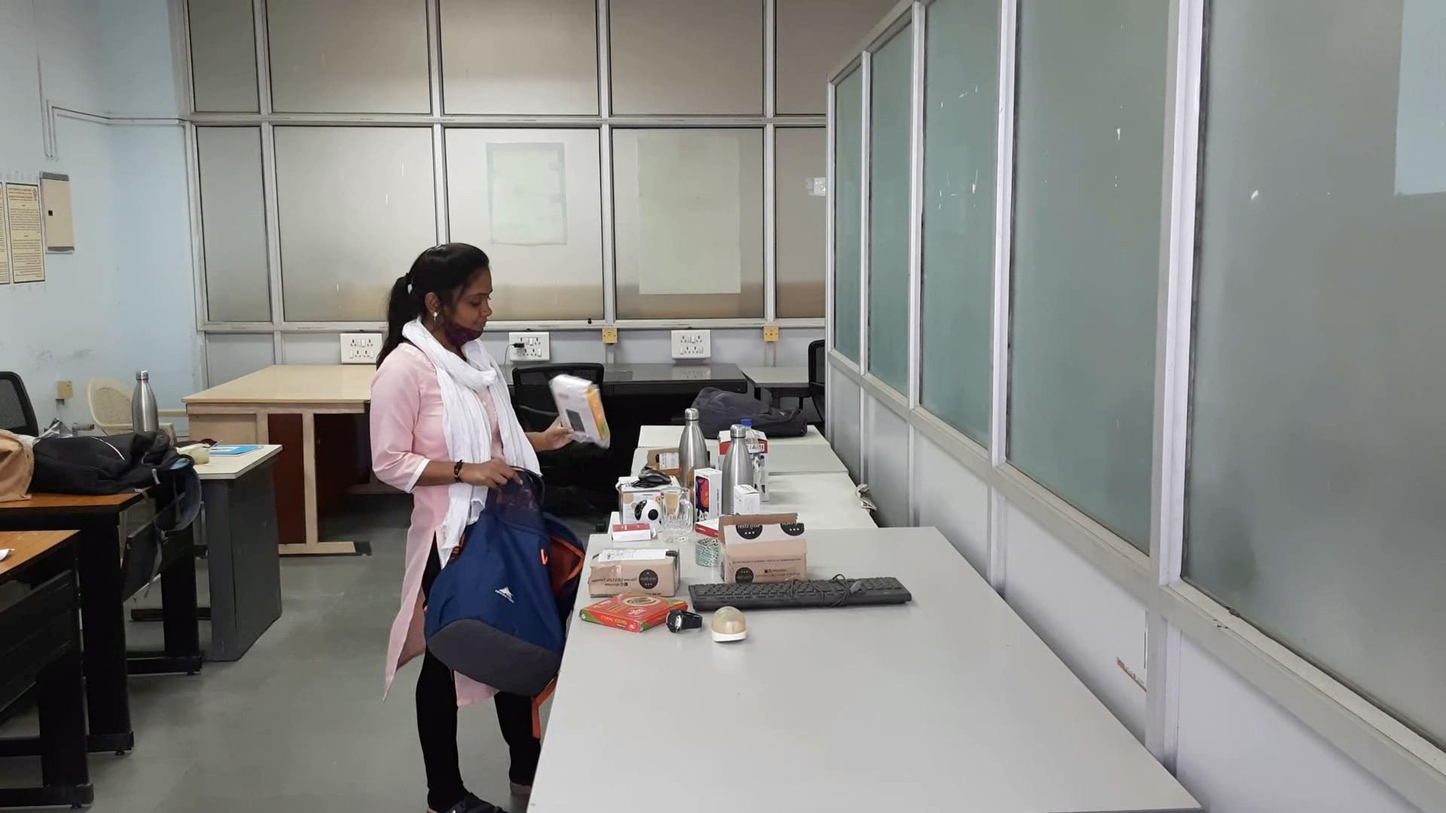shoplifting: (417, 351, 619, 681)
